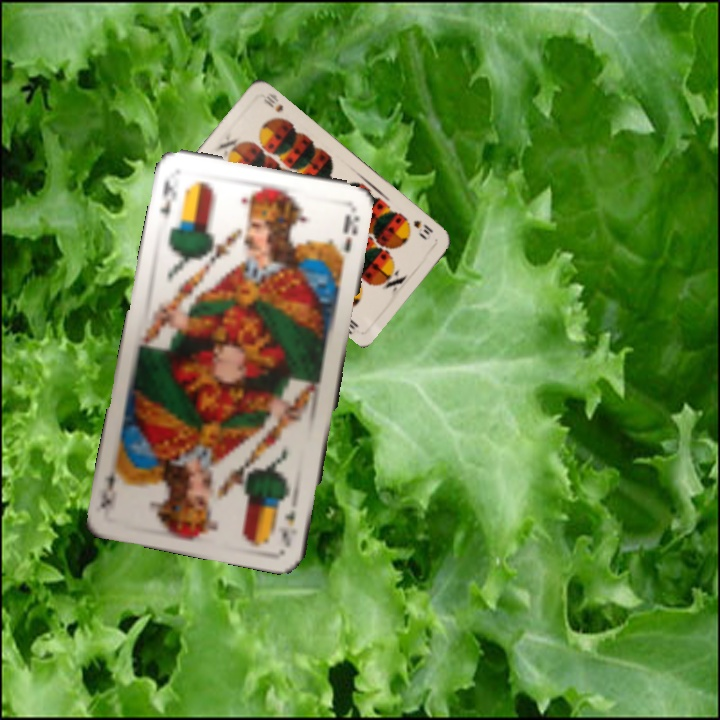EK: (156, 175, 180, 218), (278, 505, 298, 549)
S10: (409, 216, 436, 241)
